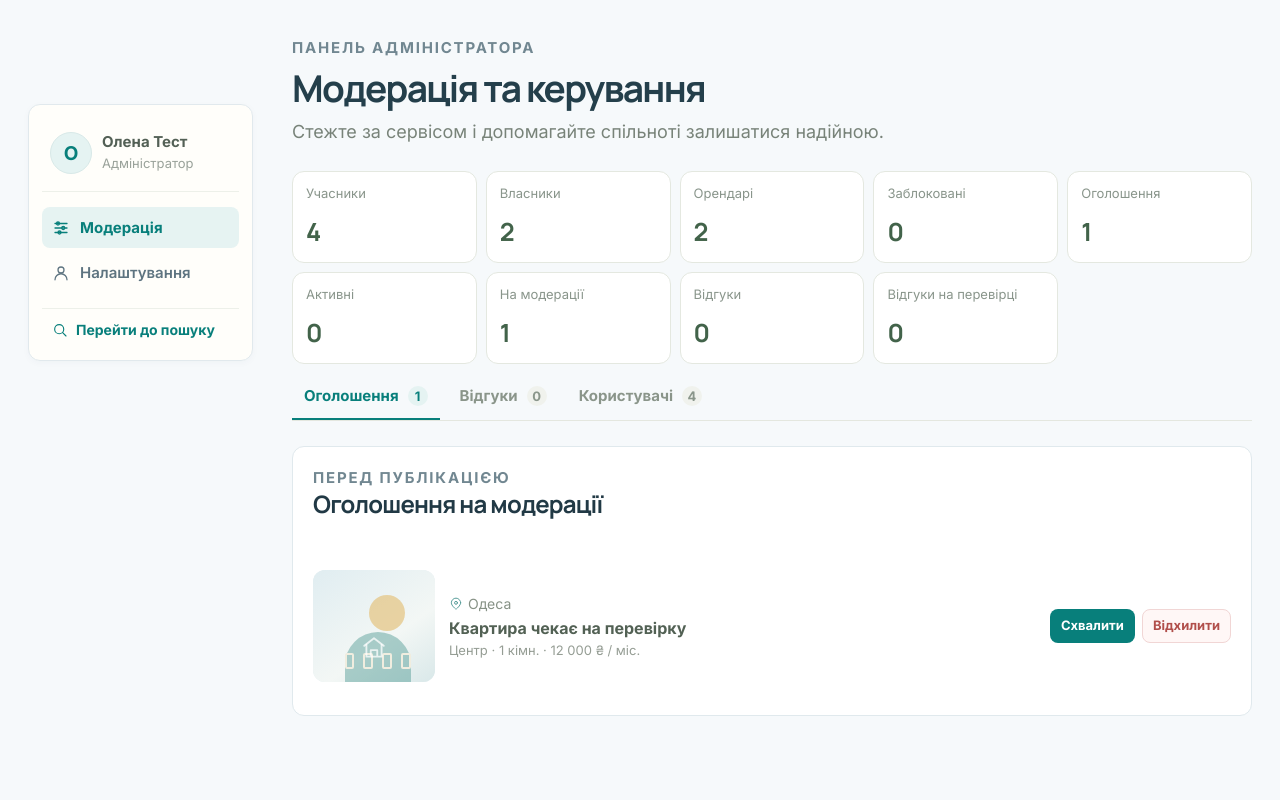
Scenario: frontend integration flows › moderates a pending listing and refreshes the admin queue
Expected: the text "Квартира чекає на перевірку" is shown, [449,618,686,638]
Click the button "Схвалити".
click(1092, 626)  # box [1050,609,1135,643]
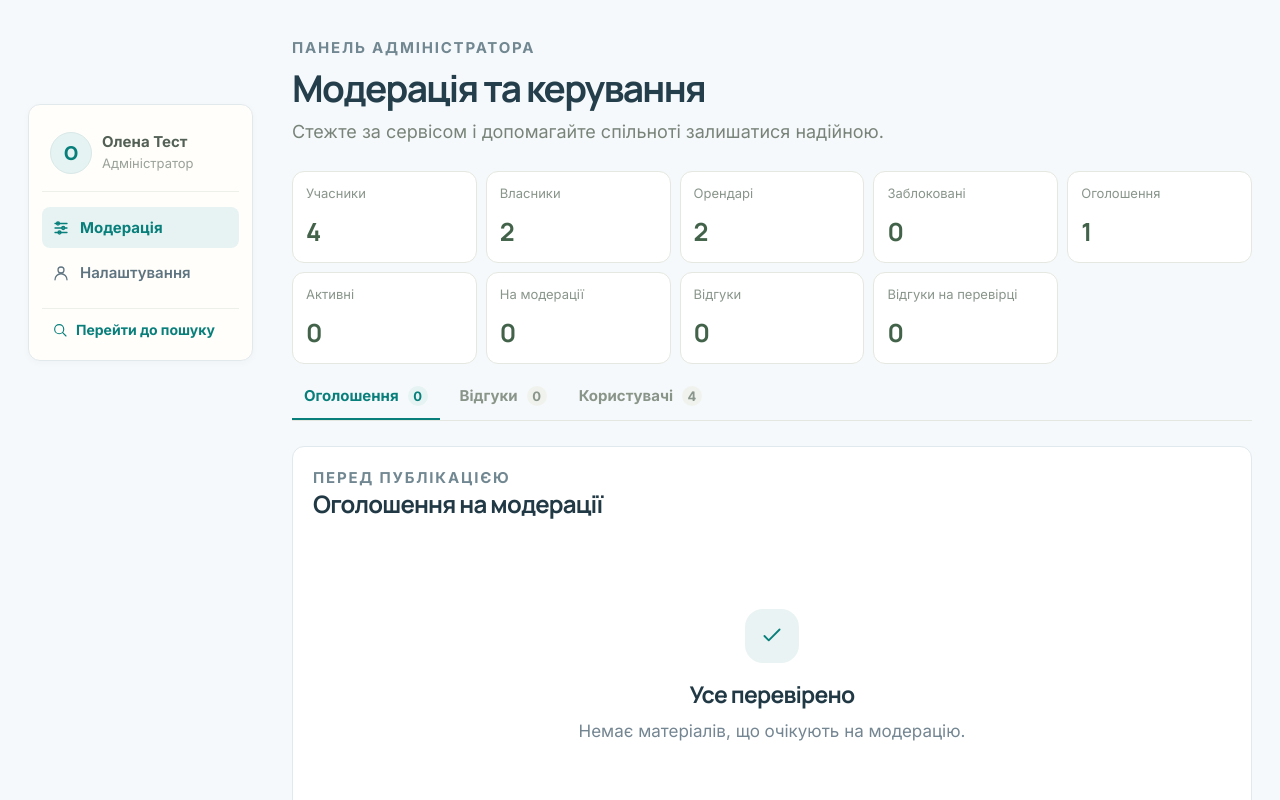
Expected: the heading "Усе перевірено" is shown, [690,678,854,710]
